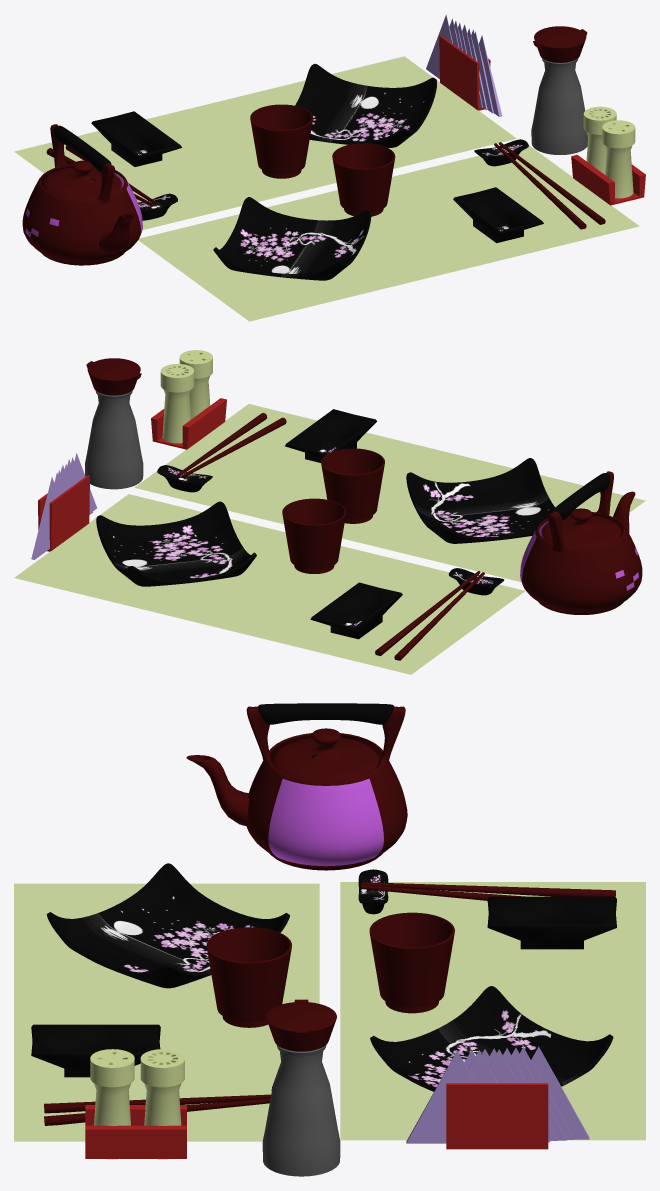
3 views of the same model, one above another, from view 1: azimuth 30°, elevation 25°; view 2: azimuth 150°, elevation 25°; view 3: azimuth 270°, elevation 25° (orthographic). The views are drawn at different scales.
Parts seen in each view (by area): view 1: Plane002, Plane001, Teapot002, ChamferBox007, ChamferBox003, Cylinder003, Cylinder021, Cylinder026, Box017, Box034, Cylinder025, Box026 (+9 smaller); view 2: Plane001, Plane002, Teapot002, ChamferBox003, ChamferBox007, Cylinder003, Cylinder021, Cylinder026, Box017, Box034, Box026, Cylinder022 (+9 smaller); view 3: Plane001, Plane002, Teapot002, ChamferBox007, Cylinder003, ChamferBox003, Cylinder021, Box026, Cylinder026, Box017, Box034, Box027 (+9 smaller).
Boxes of the visible parts, x1,y1,x2,y2 form: Plane002: (138,145,639,321); Plane001: (14,56,516,229); Teapot002: (22,124,142,265); ChamferBox007: (213,197,371,280); ChamferBox003: (295,63,436,147); Cylinder003: (531,26,587,154); Cylinder021: (250,104,313,178); Cylinder026: (332,143,395,216); Box017: (91,111,181,166); Box034: (453,187,543,243); Cylinder025: (602,120,635,198); Box026: (439,35,490,110); Plane001: (14,494,525,674); Plane002: (134,404,645,582); Teapot002: (520,471,642,614); ChamferBox003: (96,501,256,586); ChamferBox007: (406,458,554,543); Cylinder003: (85,358,143,489); Cylinder021: (282,498,346,573); Cylinder026: (321,448,384,523); Box017: (310,582,402,639); Box034: (285,409,376,462); Box026: (38,475,89,551); Cylinder022: (160,364,194,446); Plane001: (340,882,645,1140); Plane002: (14,883,319,1141); Teapot002: (186,703,407,870); ChamferBox007: (46,863,289,988); Cylinder003: (262,999,340,1176); ChamferBox003: (370,986,613,1091); Cylinder021: (369,912,454,1013); Box026: (446,1083,548,1149); Cylinder026: (206,927,291,1027); Box017: (487,896,616,949); Box034: (31,1024,160,1077); Box027: (85,1105,186,1158).
Bounding box in the file's own units: 33 × 6.25 × 24.43.
